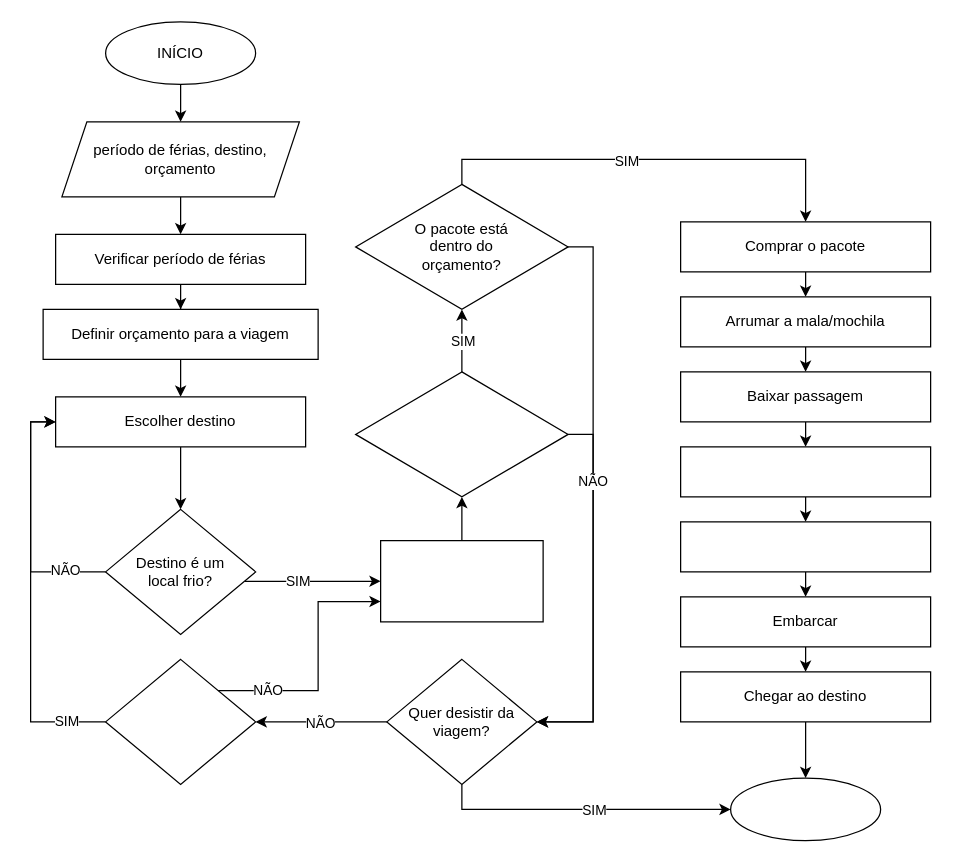
Some shapes in this 953 by 863 pixel diagram are drawn without their labels. Each missing label, with the box of its shape:
Aguardar viagem: (679, 446, 931, 497)
Escolher pacote de viagem de 15 dias dentro do perído de férias: (379, 539, 543, 622)
FIM: (729, 777, 881, 841)
Ir ao aeroporto: (679, 521, 931, 572)
O vôo do pacote é direto ao destino?: (354, 371, 568, 497)
Quer escolher outro destino?: (104, 658, 256, 784)
